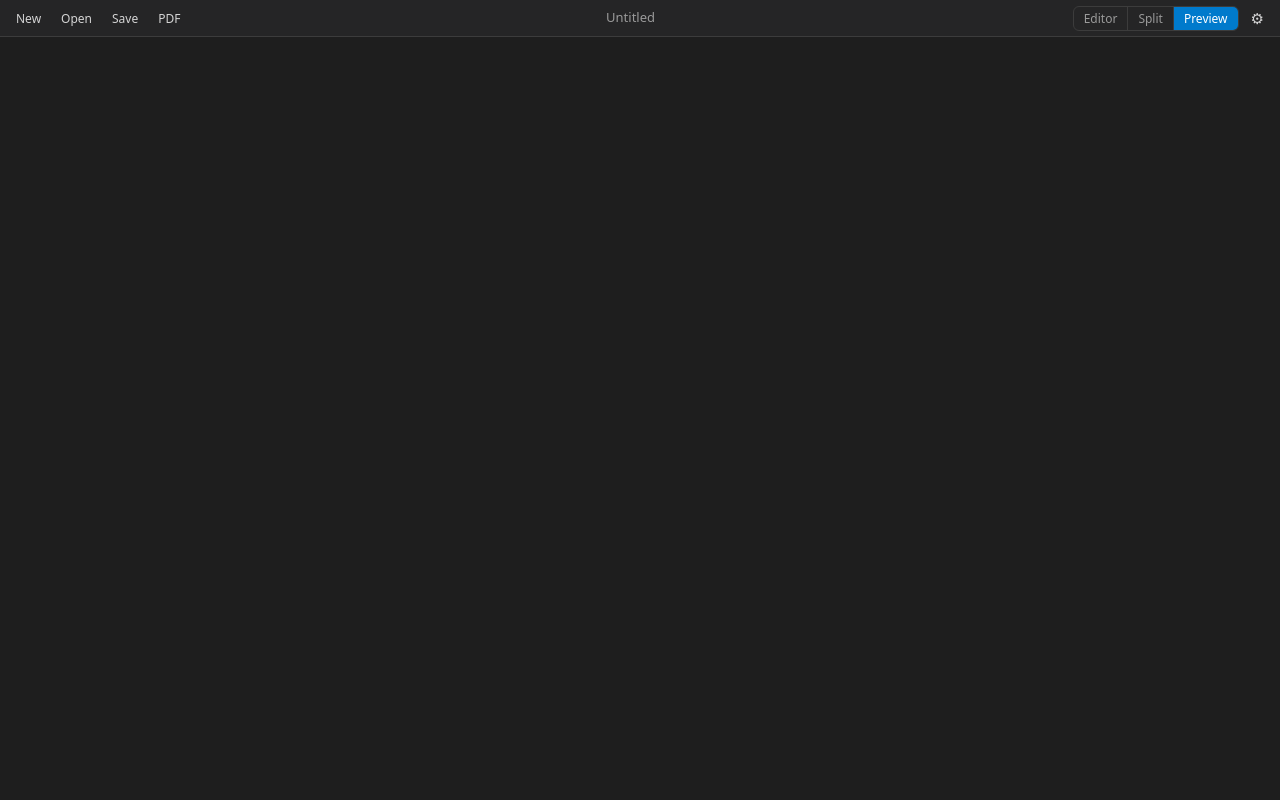
Test: App shell › opens the settings modal from the toolbar
Expected: the dialog "Settings" is not shown
Click the button named "Open settings" at (1257, 18), box [1242,4,1272,32]
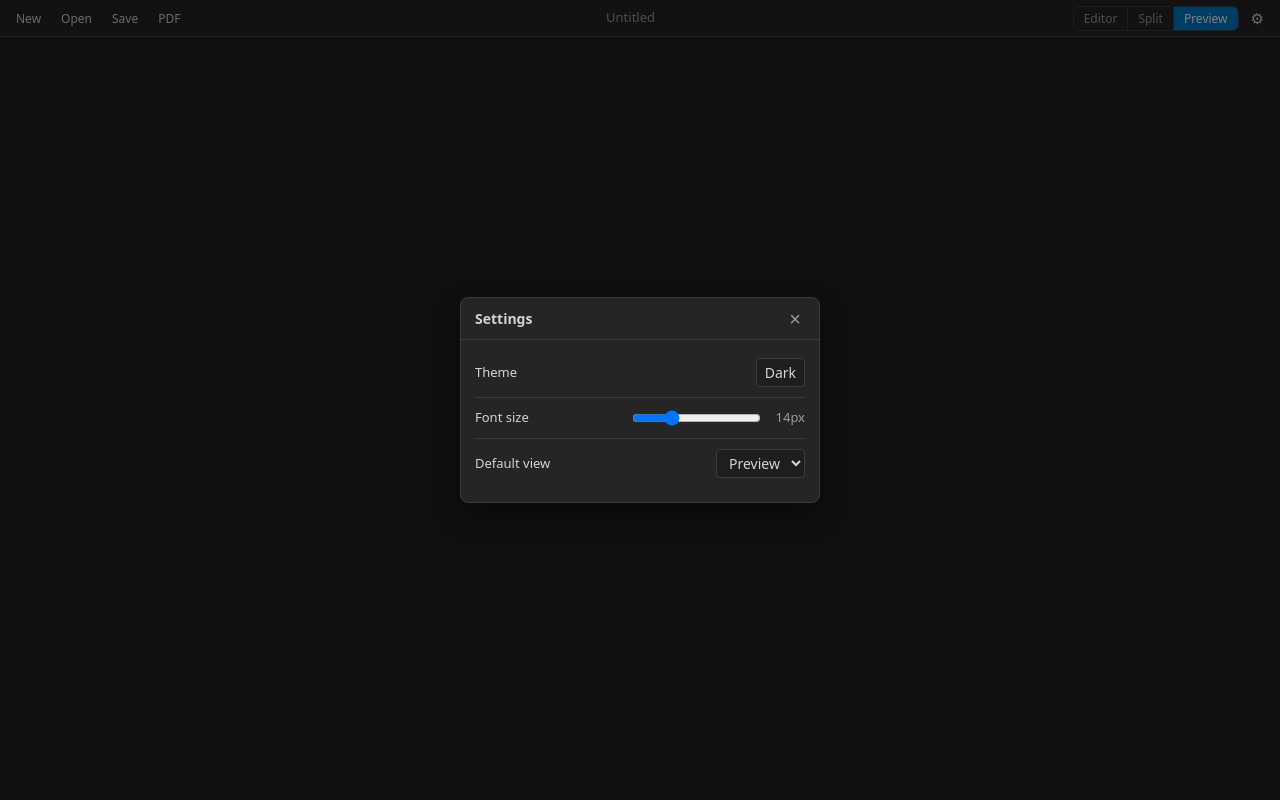
Result: the dialog "Settings" is shown at [460,297,820,503]
